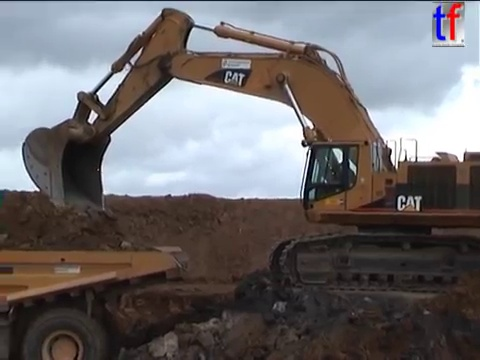excavator: (18, 4, 479, 297)
truck: (1, 241, 191, 360)
